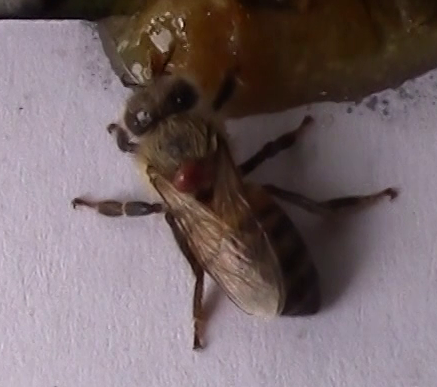Varroa destructor: (169, 155, 211, 194)
